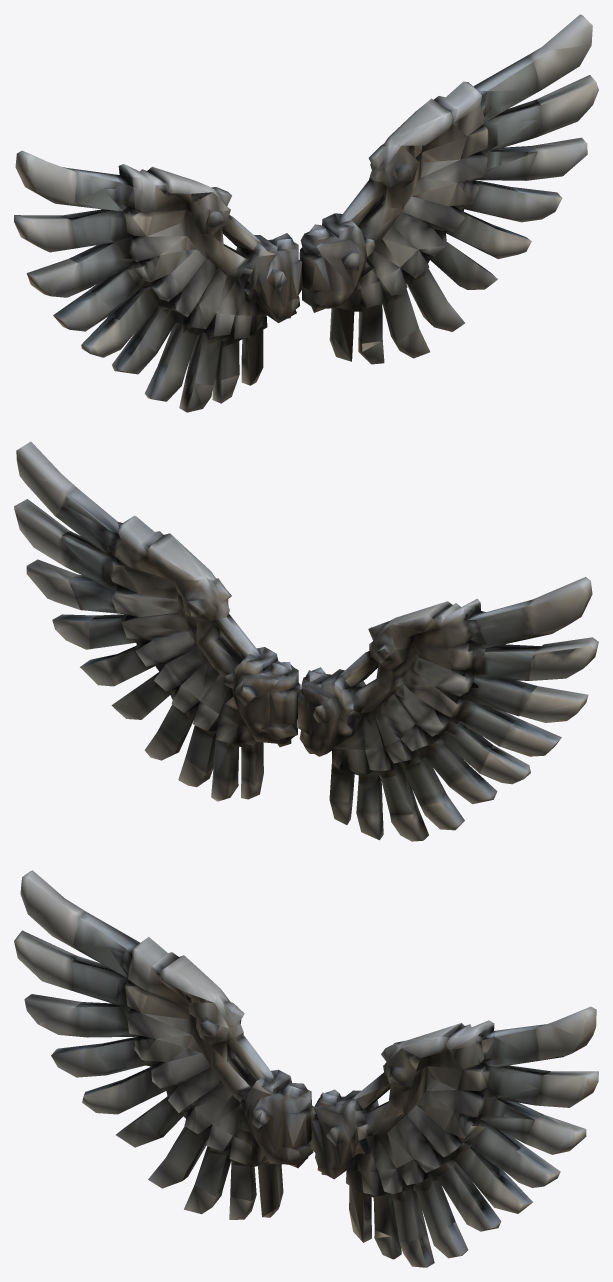
File: 2000钢铁翅膀1.fbx
3 views of the same model, one above another, from view 1: azimuth 30°, elevation 25°; view 2: azimuth 150°, elevation 25°; view 3: azimuth 330°, elevation 25° (orthographic).
Parts seen in each view (by area): view 1: geometry_0.009; view 2: geometry_0.009; view 3: geometry_0.009.
Part boxes in pixels (x1,y1,x2,y2): geometry_0.009: (14,14,598,412); geometry_0.009: (14,441,598,841); geometry_0.009: (14,870,598,1267).
Bounding box in the file's own units: 100 × 50.06 × 10.64.
